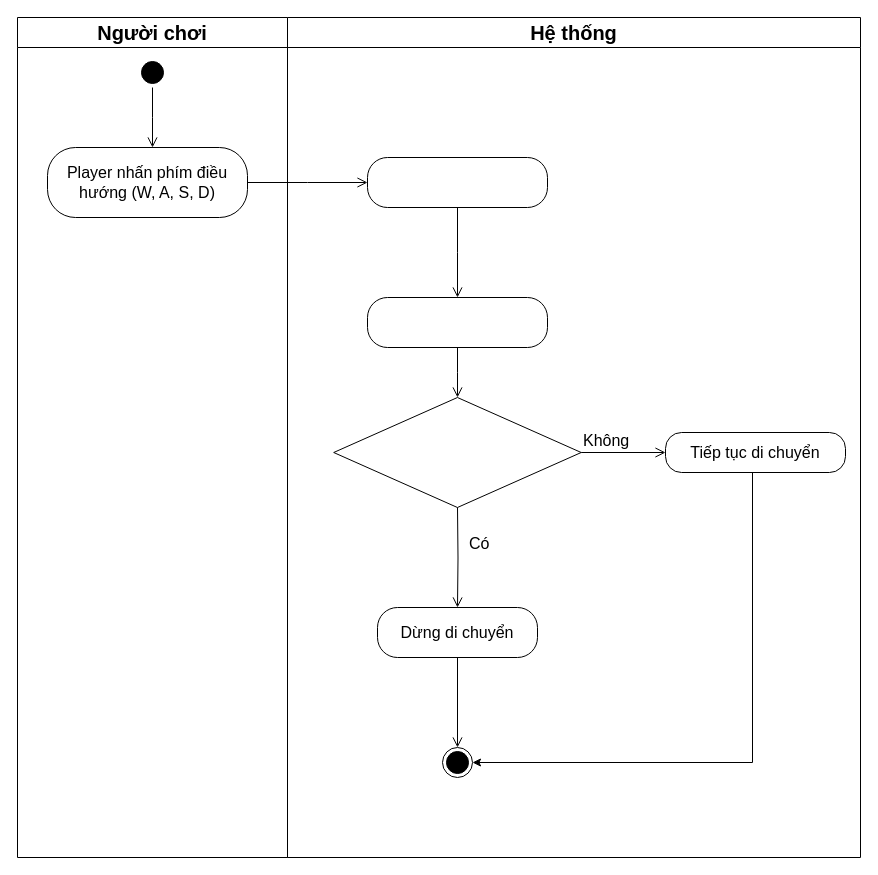
Some shapes in this 878 by 875 pixel diagram are drawn without their labels. Here are the shapes that lost their labels. From the top down, the box of each, then its label:
(366, 156, 548, 208): Thay đổi vị trí nhân vật theo hướng đó
(366, 296, 548, 348): Cập nhật animation
(333, 396, 581, 508): Va chạm với vật cản, Nhân vật bị khống chế
